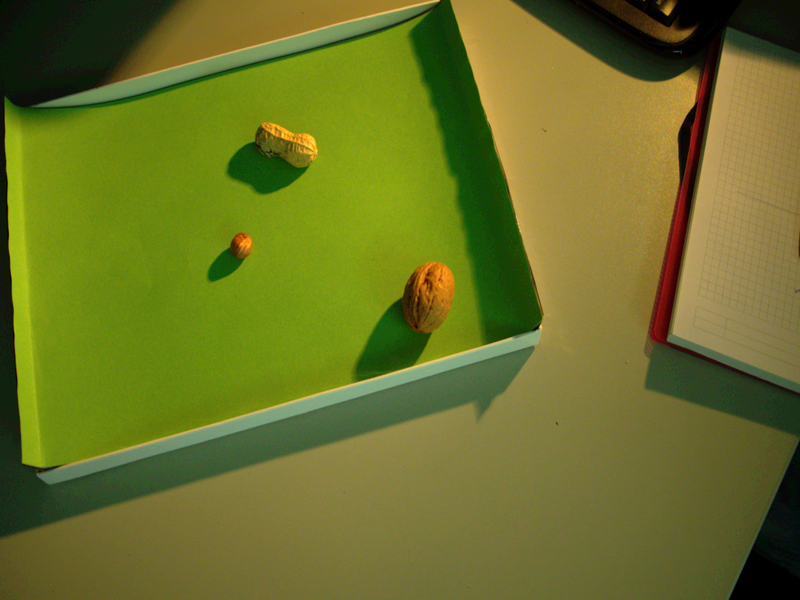walnut: (399, 257, 460, 345)
